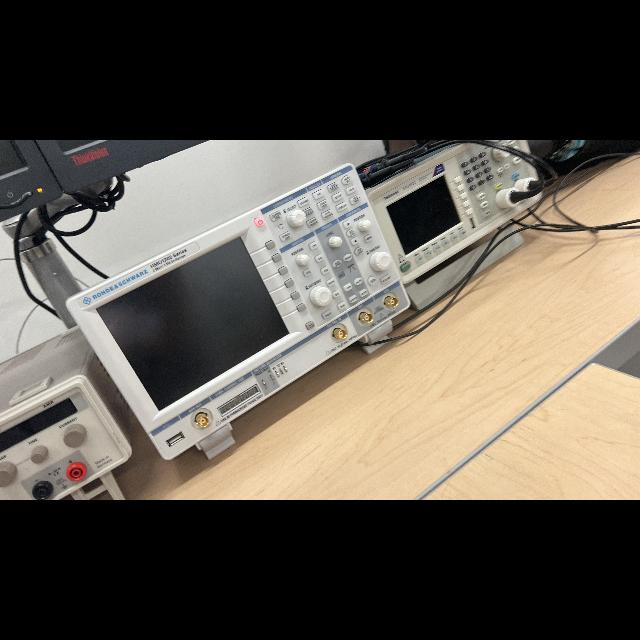Digital-Oscilloscope: (67, 165, 409, 459)
